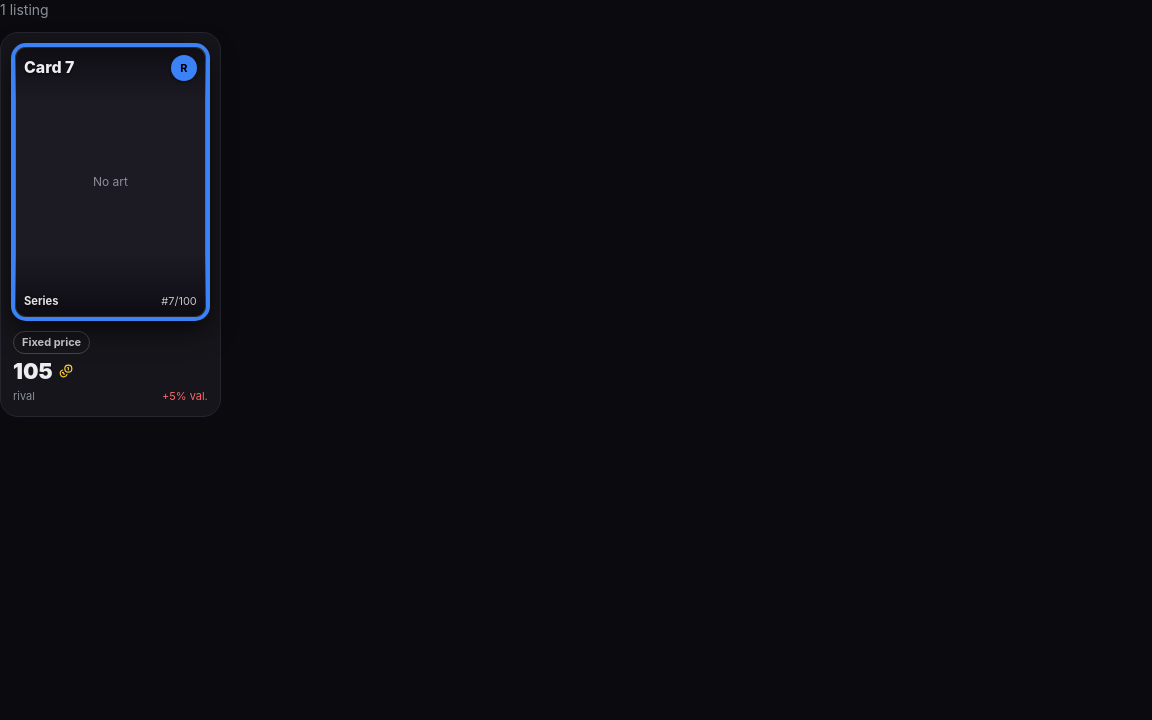
BuyTab › disables buying without enough currency
The image size is (1152, 720).
Click the button with aria-label "buy".
click(110, 225)  # box 0,32 -> 221,417
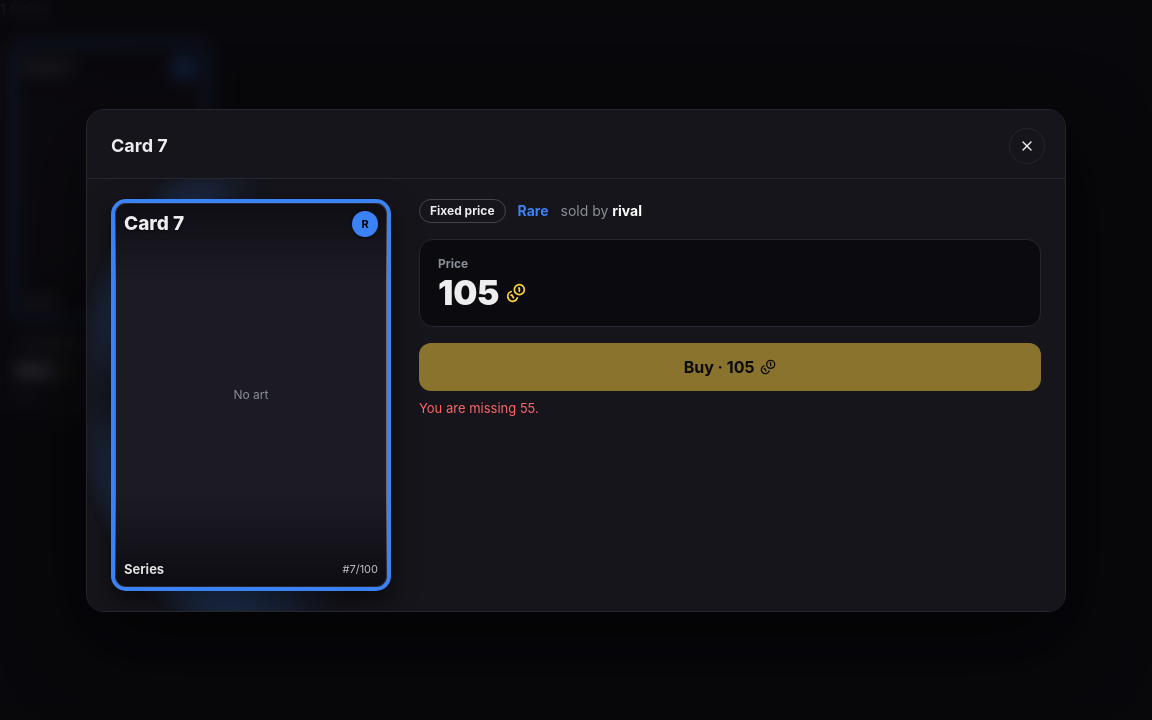
Result: the dialog shows "You are missing 55." at 419,400 -> 539,416
Result: the button "Buy · 105" is disabled at 419,342 -> 1041,390
